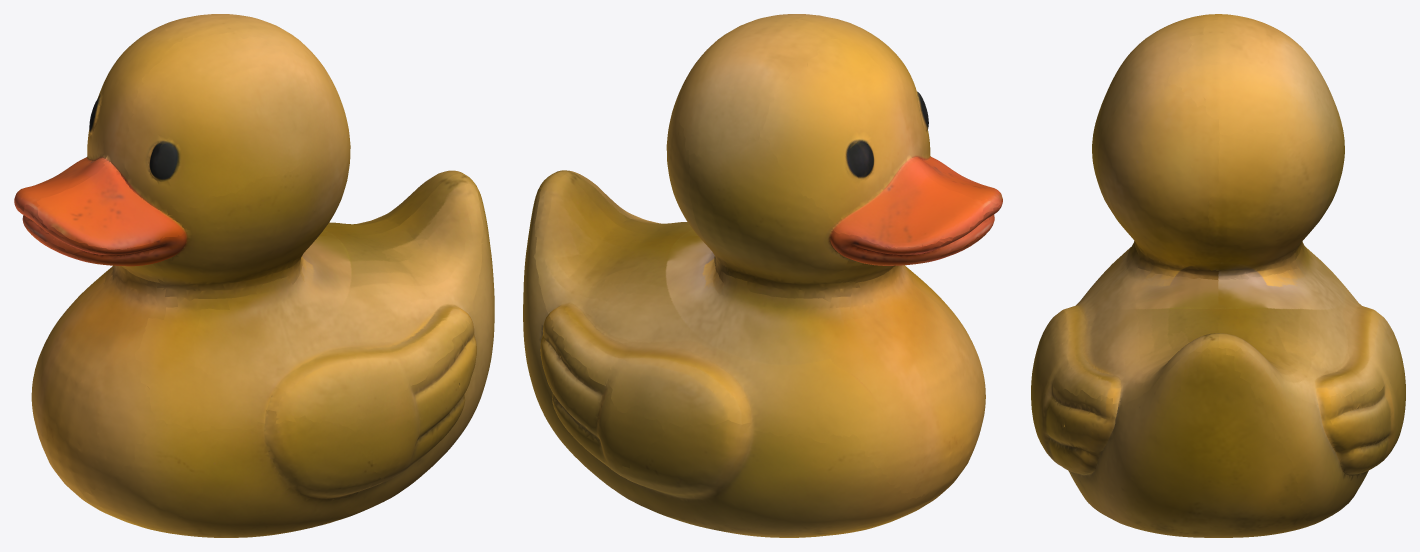
File: rubber-duck.glb
3 views of the same model, side by side, from view 1: azimuth 30°, elevation 25°; view 2: azimuth 150°, elevation 25°; view 3: azimuth 270°, elevation 25° (orthographic). The views are drawn at different scales.
Visible parts, largest first — view 1: geometry_0; view 2: geometry_0; view 3: geometry_0.
Boxes of the visible parts, <box> form: geometry_0: <box>14,14,494,537</box>; geometry_0: <box>523,14,1002,537</box>; geometry_0: <box>1031,14,1405,537</box>.
Bounding box in the file's own units: 0.11 × 0.1101 × 0.0837.
Materials: 1 (1 with a texture image).
